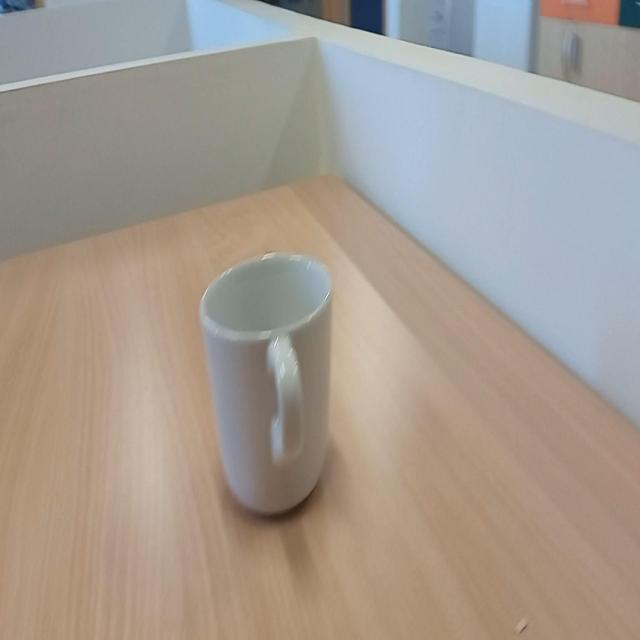cup: (197, 248, 339, 521)
